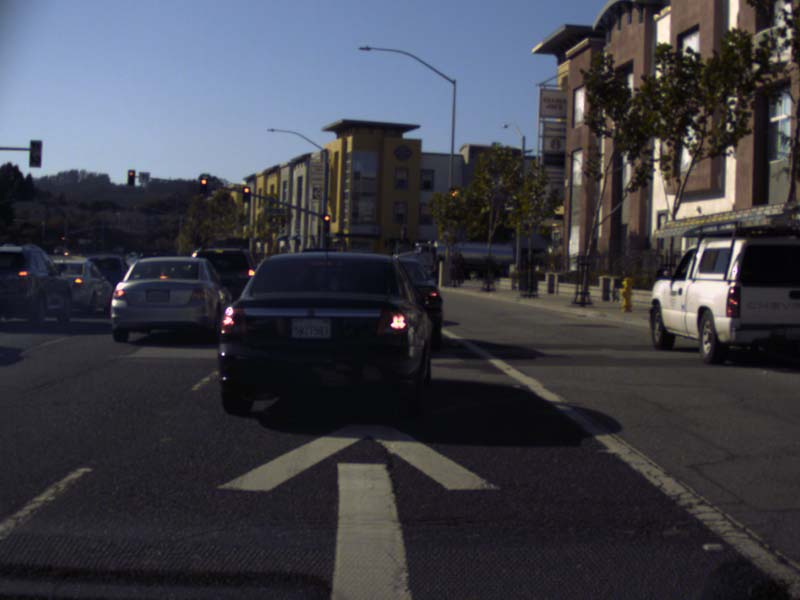Red: (322, 214, 330, 232), (242, 186, 250, 202), (199, 178, 207, 193), (128, 170, 133, 185)
